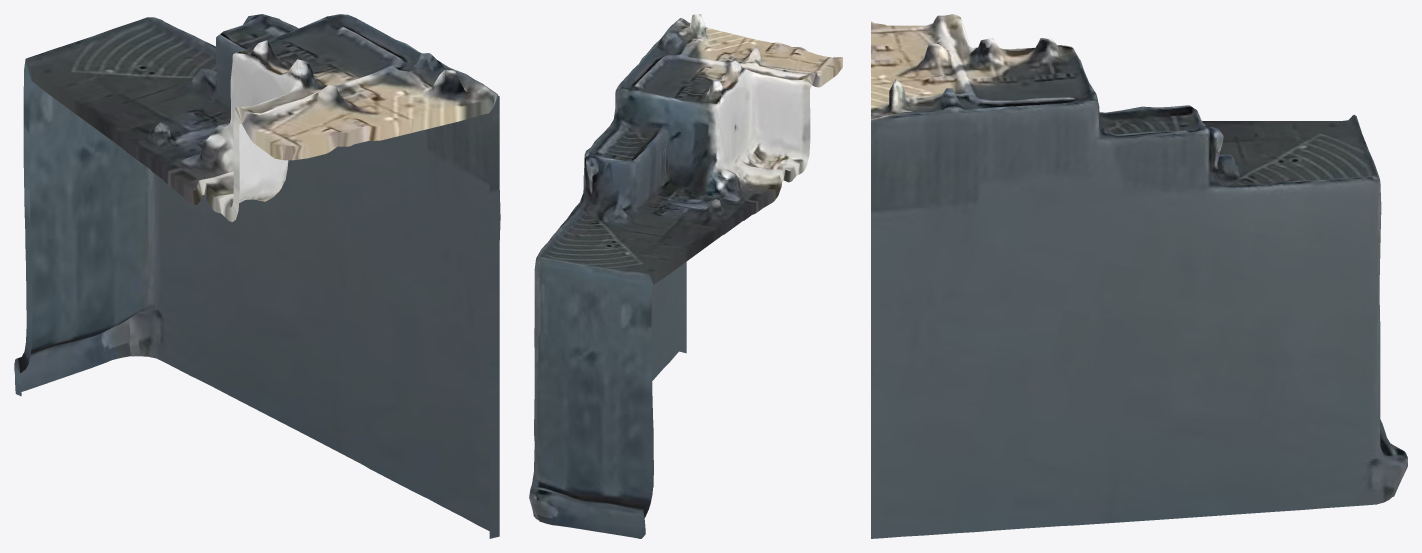
The model's file is z20-167752-405243-h1-yup-uvflip-v3-world.glb.
3 views of the same model, side by side, from view 1: azimuth 30°, elevation 25°; view 2: azimuth 150°, elevation 25°; view 3: azimuth 270°, elevation 25° (orthographic). The views are drawn at different scales.
Size of the model in its own units: 10.36 by 21.24 by 23.44.
Materials: 1 (1 with a texture image).
